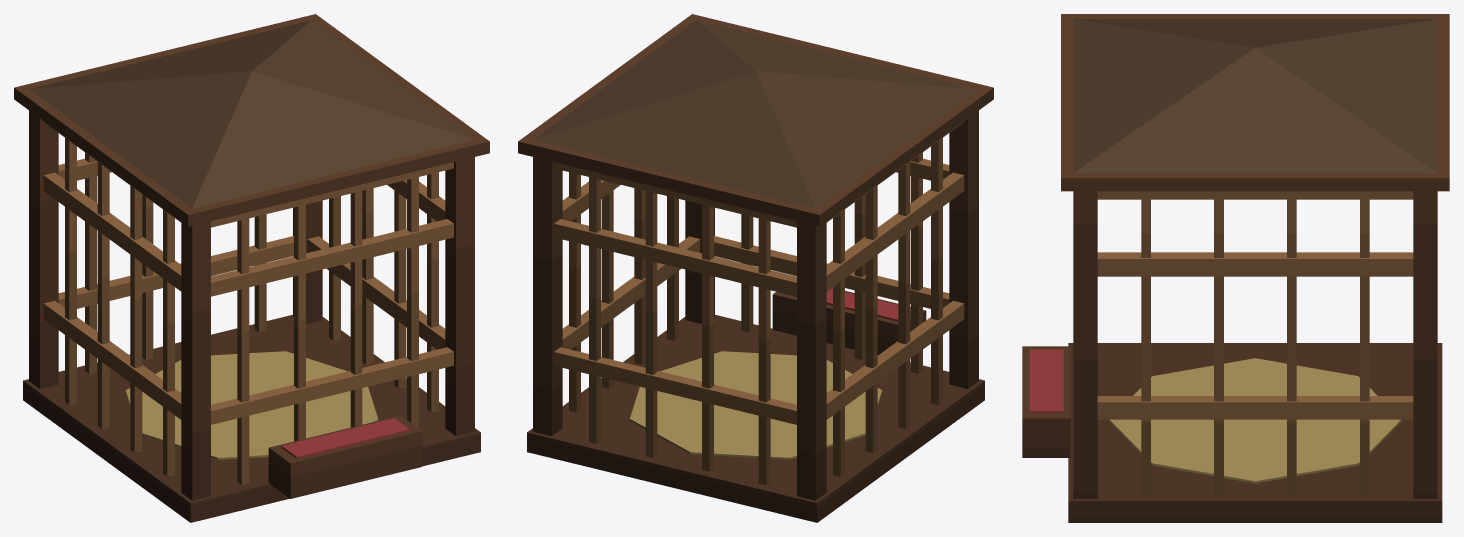
Rendered from taming_cage.glb.
3 views of the same model, side by side, from view 1: azimuth 30°, elevation 25°; view 2: azimuth 150°, elevation 25°; view 3: azimuth 270°, elevation 25° (orthographic). The views are drawn at different scales.
Size of the model in its own units: 1.6 by 1.8 by 1.76.
Materials: 1 (1 with a texture image).
